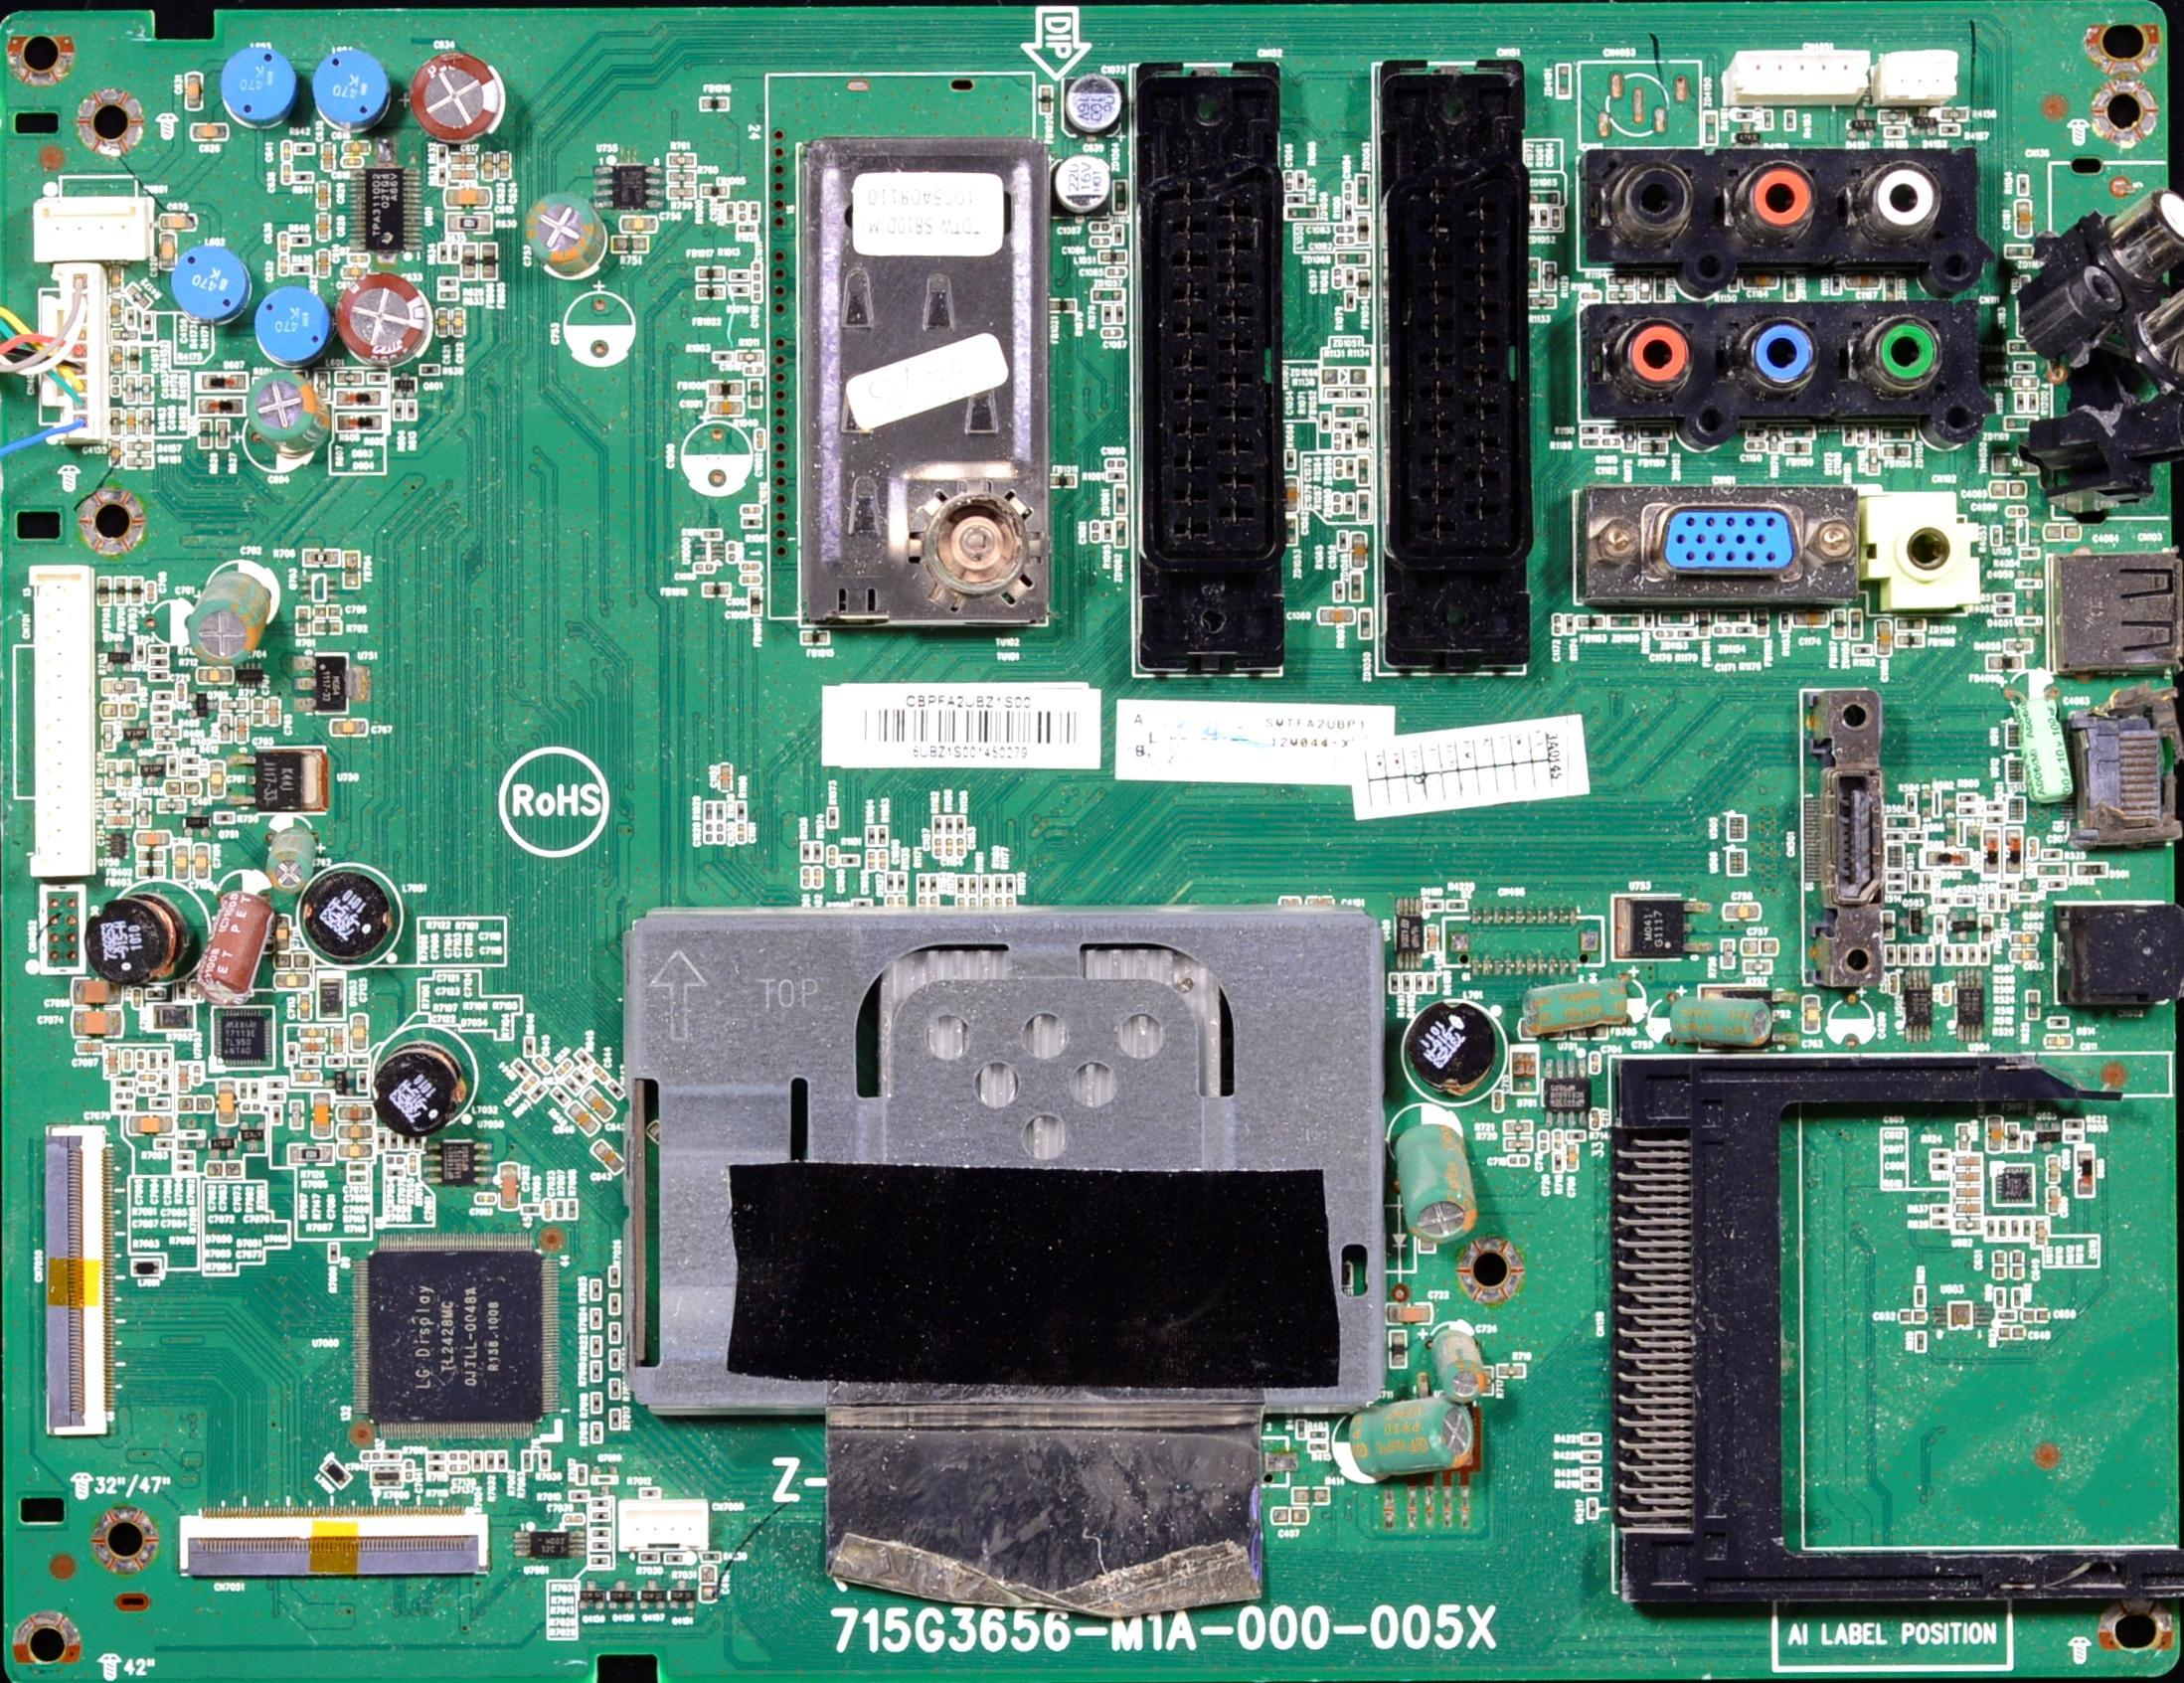Capacitor: (74, 979, 124, 1008), (588, 1144, 629, 1177), (74, 1011, 122, 1039), (567, 1105, 603, 1138), (497, 1165, 519, 1206), (313, 1094, 332, 1138), (583, 1089, 613, 1117), (219, 1084, 237, 1124), (449, 189, 489, 207), (194, 843, 212, 880), (352, 1015, 369, 1050), (1272, 1508, 1308, 1526), (102, 677, 138, 695), (1804, 995, 1820, 1032), (1878, 621, 1894, 658), (701, 1566, 717, 1602), (2016, 202, 2032, 237), (161, 216, 196, 232), (709, 401, 744, 417), (1285, 477, 1301, 513), (2044, 525, 2080, 541), (332, 721, 368, 737), (210, 762, 226, 797), (175, 845, 191, 880), (530, 1055, 558, 1075), (1990, 484, 2029, 499), (622, 217, 656, 233), (138, 833, 171, 849), (1744, 939, 1778, 955), (1793, 612, 1831, 626), (209, 1163, 240, 1179), (194, 124, 226, 140), (161, 235, 177, 267), (178, 1098, 214, 1112), (1354, 534, 1368, 569), (1320, 610, 1355, 624), (104, 705, 140, 720), (276, 955, 311, 969), (341, 1107, 375, 1121), (339, 1128, 373, 1142), (1990, 1119, 2004, 1153), (1847, 274, 1880, 288), (1746, 276, 1779, 290), (200, 668, 233, 682), (187, 76, 201, 110), (341, 1146, 373, 1160), (1728, 905, 1760, 919), (519, 1075, 542, 1094), (1954, 1170, 1984, 1184), (498, 152, 512, 182), (277, 976, 311, 988), (1900, 1310, 1928, 1324), (452, 309, 466, 338), (269, 698, 283, 727), (277, 918, 290, 949), (553, 1059, 573, 1078), (2034, 1220, 2048, 1246), (299, 1027, 329, 1039), (332, 1027, 346, 1052), (76, 1043, 104, 1055), (295, 1073, 323, 1085), (475, 1192, 500, 1206), (315, 606, 343, 619), (253, 698, 265, 727), (237, 716, 249, 744), (300, 994, 313, 1020), (300, 1043, 327, 1055), (178, 1066, 191, 1093), (2048, 1156, 2060, 1183), (1956, 1188, 1983, 1200), (482, 154, 495, 180), (436, 309, 449, 336), (2013, 378, 2039, 391), (108, 815, 134, 827), (1426, 926, 1438, 953), (542, 1199, 557, 1222), (110, 269, 124, 292), (592, 1066, 610, 1084), (108, 1050, 120, 1075), (1567, 1146, 1580, 1170), (2048, 1190, 2060, 1215), (2013, 1253, 2025, 1278), (1995, 1253, 2007, 1278), (345, 143, 369, 156), (323, 145, 336, 170), (2046, 1036, 2074, 1047), (1954, 1156, 1983, 1167), (320, 182, 330, 210), (320, 214, 330, 242), (113, 297, 124, 325), (2011, 951, 2039, 962), (1940, 985, 1953, 1008), (345, 269, 368, 281), (1956, 1204, 1983, 1215), (2023, 1310, 2050, 1321), (2000, 1328, 2027, 1338), (451, 156, 477, 166), (320, 251, 330, 278), (127, 410, 138, 437), (2013, 935, 2039, 946), (565, 1513, 587, 1526), (113, 346, 124, 371), (111, 442, 122, 467), (721, 767, 732, 792), (452, 170, 475, 180), (742, 506, 765, 516), (945, 836, 956, 859), (343, 157, 362, 170), (1553, 615, 1566, 635), (1308, 898, 1334, 907), (1590, 1054, 1601, 1075), (1285, 171, 1295, 193), (1103, 329, 1124, 339), (1857, 426, 1868, 447), (756, 430, 767, 451), (1746, 442, 1767, 453), (742, 562, 763, 573), (1656, 629, 1677, 640), (935, 838, 945, 859), (1891, 974, 1901, 995), (191, 981, 201, 1002), (134, 992, 145, 1011), (138, 1085, 157, 1096), (1539, 1133, 1550, 1153), (405, 1462, 415, 1481), (1603, 438, 1622, 449), (868, 850, 878, 870), (124, 1052, 133, 1073), (283, 164, 292, 186), (1092, 237, 1113, 246), (747, 366, 765, 377), (1332, 433, 1343, 451), (2007, 507, 2029, 516), (1090, 523, 1101, 541), (878, 850, 887, 872), (804, 868, 813, 889), (193, 1066, 201, 1085), (117, 1094, 136, 1103), (1495, 1093, 1504, 1112), (1553, 1131, 1562, 1151), (1509, 1158, 1528, 1167), (362, 1453, 382, 1462), (451, 1466, 470, 1474), (1345, 182, 1354, 202), (1336, 226, 1355, 235), (281, 256, 290, 276), (753, 263, 762, 283), (1334, 269, 1343, 288), (753, 283, 762, 302), (1106, 460, 1126, 468), (728, 544, 737, 564), (696, 564, 716, 573), (742, 576, 762, 585), (147, 583, 155, 603), (1716, 626, 1735, 635), (739, 824, 747, 843), (958, 838, 967, 857), (2030, 840, 2039, 859), (140, 1075, 157, 1084), (1592, 1112, 1601, 1130), (387, 1158, 405, 1167), (410, 1156, 419, 1174), (451, 1453, 468, 1462), (1553, 210, 1562, 228), (350, 256, 368, 265), (1281, 898, 1299, 907), (1092, 225, 1113, 232), (1334, 491, 1341, 513), (815, 868, 822, 889), (138, 1052, 145, 1071), (284, 143, 292, 163), (740, 203, 747, 223), (113, 378, 120, 398), (1336, 458, 1343, 477), (830, 849, 838, 868), (242, 1105, 260, 1112), (281, 235, 288, 253), (1108, 269, 1126, 276), (707, 826, 714, 843), (717, 826, 724, 843), (919, 896, 928, 910), (1338, 237, 1354, 244), (1005, 896, 1014, 909), (995, 896, 1004, 909), (887, 896, 896, 909), (958, 898, 967, 910), (970, 898, 979, 910), (899, 898, 908, 910), (982, 898, 991, 909), (931, 896, 938, 909)
Connector: (48, 1126, 117, 1437), (180, 1506, 489, 1573), (1726, 51, 1873, 106), (1873, 51, 1958, 106), (620, 1503, 710, 1552)
IC: (348, 1237, 562, 1439), (1617, 898, 1714, 960), (353, 171, 419, 251), (230, 755, 318, 806), (297, 656, 362, 714), (216, 1009, 274, 1068), (511, 1526, 590, 1568), (1544, 1061, 1592, 1126), (597, 166, 663, 210), (428, 1142, 491, 1183), (1394, 898, 1424, 969), (1905, 974, 1933, 1041), (1960, 974, 1984, 1039), (1933, 1305, 1991, 1328), (1995, 1167, 2032, 1202), (2007, 522, 2043, 548), (240, 665, 265, 688)
Resistor: (449, 214, 493, 235), (127, 281, 155, 308), (1293, 1489, 1329, 1506), (306, 552, 339, 569), (613, 237, 648, 253), (166, 783, 201, 799), (564, 1078, 585, 1098), (1942, 108, 1970, 122), (217, 421, 231, 449), (739, 350, 765, 364), (124, 377, 138, 403), (110, 410, 124, 437), (141, 410, 155, 437), (138, 801, 152, 827), (608, 1377, 624, 1400), (1505, 1138, 1534, 1151), (141, 377, 154, 405), (127, 456, 155, 468), (299, 608, 311, 636), (108, 760, 120, 788), (1723, 942, 1735, 971), (1744, 962, 1772, 974), (521, 1039, 539, 1059), (551, 1087, 569, 1107), (608, 1324, 624, 1345), (590, 1336, 606, 1358), (590, 1423, 606, 1444), (2029, 992, 2041, 1018), (1505, 1123, 1532, 1135), (670, 154, 696, 166), (670, 171, 696, 184), (337, 373, 364, 385), (2006, 640, 2032, 652), (159, 801, 186, 813), (590, 1310, 604, 1333), (592, 1361, 606, 1384), (592, 1393, 606, 1416), (610, 1409, 624, 1432), (573, 1068, 590, 1085), (1956, 1220, 1981, 1232), (316, 373, 329, 398), (154, 728, 178, 741), (108, 799, 133, 811), (1880, 111, 1908, 122), (592, 1280, 606, 1301), (668, 187, 696, 198), (200, 421, 210, 449), (127, 442, 155, 453), (610, 1296, 622, 1319), (1610, 292, 1636, 302), (113, 331, 140, 341), (1769, 426, 1779, 453), (316, 622, 343, 633), (608, 1268, 622, 1287), (610, 1351, 624, 1370), (1587, 1499, 1599, 1520), (1345, 292, 1357, 313), (1327, 389, 1348, 401), (1991, 525, 2004, 546), (2021, 548, 2043, 560), (122, 762, 133, 787), (2043, 850, 2064, 863), (1998, 893, 2011, 914), (514, 1059, 530, 1075), (569, 1199, 580, 1222), (557, 1199, 567, 1222), (152, 1098, 171, 1110), (1998, 1220, 2011, 1239), (1940, 126, 1960, 138), (703, 1552, 723, 1565), (730, 285, 749, 297), (967, 877, 979, 896), (251, 1080, 262, 1101), (1735, 111, 1756, 122), (155, 1140, 177, 1151), (2011, 1218, 2021, 1239), (2014, 1289, 2025, 1310), (523, 1451, 534, 1473), (472, 1451, 482, 1473), (578, 1466, 588, 1487), (640, 1489, 661, 1499), (1908, 794, 1919, 815), (917, 875, 928, 896), (1998, 882, 2020, 893), (1447, 902, 1468, 912), (1914, 944, 1924, 965), (272, 1107, 283, 1126), (2066, 1133, 2085, 1144), (2023, 1131, 2034, 1151), (1553, 1154, 1564, 1174), (1915, 1287, 1926, 1306), (1917, 1333, 1928, 1352), (1583, 1434, 1603, 1444), (1309, 1443, 1329, 1453), (1581, 1451, 1601, 1462), (541, 1451, 551, 1471), (1583, 1469, 1603, 1480), (438, 147, 449, 166), (592, 1542, 611, 1552), (641, 1554, 661, 1565), (666, 1554, 686, 1565), (1297, 171, 1308, 191), (293, 265, 313, 276), (440, 278, 459, 288), (2016, 394, 2027, 414), (1749, 430, 1769, 440), (1581, 438, 1601, 449), (1286, 449, 1297, 468), (1345, 493, 1355, 513), (1339, 532, 1350, 552), (1995, 606, 2014, 617), (1737, 626, 1756, 636), (1679, 629, 1698, 640), (150, 645, 170, 656), (1854, 647, 1873, 658), (216, 813, 235, 824), (868, 829, 878, 849), (800, 843, 811, 863), (1887, 872, 1907, 882), (898, 873, 908, 893), (928, 875, 938, 895), (2048, 880, 2067, 891), (1889, 884, 1908, 895), (1968, 946, 1979, 965), (1426, 974, 1437, 994), (1611, 276, 1634, 285), (813, 841, 822, 864), (302, 1057, 323, 1066), (329, 1057, 346, 1068), (359, 1073, 369, 1091), (115, 1080, 136, 1089), (1567, 1131, 1585, 1142), (178, 1163, 196, 1174), (1933, 1206, 1951, 1216), (2023, 1218, 2032, 1239), (1988, 1220, 1997, 1241), (1297, 1421, 1308, 1439), (383, 1451, 401, 1462), (497, 1453, 507, 1471), (297, 145, 315, 156), (592, 1512, 610, 1522), (592, 1557, 610, 1568), (1288, 194, 1306, 205), (1345, 203, 1355, 221), (1539, 210, 1550, 228), (739, 225, 756, 235), (422, 366, 440, 377), (369, 373, 387, 384), (408, 400, 417, 421), (1845, 428, 1855, 445), (1108, 472, 1129, 481), (1567, 615, 1576, 636), (134, 645, 145, 663), (152, 672, 170, 682), (182, 757, 200, 767), (737, 803, 746, 824), (829, 810, 839, 827), (935, 819, 945, 836), (887, 873, 896, 895), (958, 875, 967, 896), (1958, 896, 1975, 907), (1426, 900, 1444, 910), (1900, 946, 1910, 963), (1956, 946, 1967, 963), (1924, 946, 1935, 963), (580, 1052, 594, 1064), (288, 1043, 297, 1062), (161, 1073, 170, 1093), (115, 1103, 134, 1112), (2066, 1121, 2085, 1130), (391, 1131, 399, 1151), (1931, 1151, 1951, 1160), (387, 1169, 406, 1177), (1765, 111, 1774, 131), (1788, 111, 1797, 131), (1931, 1220, 1951, 1229), (330, 1245, 339, 1264), (1998, 1312, 2018, 1321), (1887, 129, 1907, 138), (428, 1453, 447, 1462), (488, 1453, 497, 1473), (428, 1464, 447, 1473), (1583, 1481, 1603, 1490), (571, 1492, 590, 1501), (592, 1501, 611, 1510), (438, 166, 447, 186), (728, 203, 737, 223), (1115, 226, 1124, 246), (440, 244, 449, 263), (451, 244, 459, 263), (732, 272, 751, 281), (438, 292, 458, 301), (1581, 292, 1601, 301), (1104, 306, 1113, 325), (129, 311, 138, 331), (143, 315, 152, 334), (714, 354, 733, 362), (394, 401, 403, 421), (1603, 426, 1622, 435), (1346, 458, 1355, 477), (744, 520, 763, 529), (154, 705, 173, 714), (1960, 794, 1979, 803), (705, 803, 714, 822), (1960, 810, 1979, 819), (878, 827, 887, 847), (841, 857, 861, 866), (1007, 875, 1016, 895), (995, 875, 1004, 895), (982, 877, 991, 896), (1935, 896, 1954, 905), (1988, 893, 1997, 912), (1887, 946, 1896, 965), (1403, 974, 1412, 994), (1415, 976, 1424, 995), (148, 990, 168, 999), (751, 203, 762, 219), (295, 235, 311, 246), (1320, 414, 1331, 430), (519, 1206, 542, 1213), (353, 1057, 371, 1066), (267, 1080, 284, 1089), (240, 1082, 249, 1100), (1931, 1163, 1949, 1172), (350, 1163, 368, 1172), (1997, 1289, 2006, 1306), (592, 1529, 610, 1538), (295, 173, 313, 182), (2020, 177, 2029, 194), (1117, 306, 1126, 324), (2030, 394, 2039, 412), (1583, 428, 1601, 437), (1871, 428, 1880, 445), (1104, 523, 1113, 541), (703, 530, 721, 539), (1336, 585, 1345, 603), (1997, 594, 2014, 603), (152, 659, 170, 668), (157, 693, 175, 702), (154, 716, 171, 725), (157, 744, 175, 753), (184, 769, 201, 778), (1986, 803, 2004, 811), (958, 817, 967, 834), (947, 817, 956, 834), (1887, 833, 1905, 841), (1910, 833, 1928, 841), (1912, 873, 1921, 891), (1924, 873, 1933, 891), (1944, 946, 1953, 963), (1391, 976, 1399, 994), (148, 1052, 157, 1068), (1981, 948, 1990, 963), (178, 985, 187, 1001), (378, 1131, 385, 1151), (1309, 1432, 1329, 1439), (1530, 209, 1537, 228), (1783, 613, 1790, 633), (170, 757, 177, 776), (163, 1052, 170, 1070), (267, 1094, 284, 1101), (350, 1176, 368, 1183), (1348, 270, 1355, 288), (1834, 276, 1841, 293), (2016, 364, 2034, 371), (1352, 391, 1369, 398), (1338, 423, 1355, 430), (1346, 433, 1354, 451), (717, 803, 724, 820), (178, 1154, 194, 1161), (1647, 612, 1654, 628), (1990, 817, 2004, 824), (405, 1138, 412, 1149), (417, 1138, 422, 1151)
Transistor: (640, 1580, 666, 1612), (212, 1128, 237, 1160), (610, 1580, 634, 1612), (1912, 110, 1938, 138), (1951, 914, 1977, 942), (329, 1073, 359, 1098), (2037, 1123, 2062, 1153), (671, 1582, 696, 1612), (140, 757, 164, 787), (1901, 910, 1931, 935), (191, 693, 217, 720), (1852, 110, 1877, 138), (187, 810, 212, 838), (242, 1123, 265, 1153), (110, 643, 133, 674), (581, 1582, 604, 1611), (1735, 124, 1760, 148), (125, 723, 150, 748), (394, 373, 417, 398), (106, 836, 129, 857)
